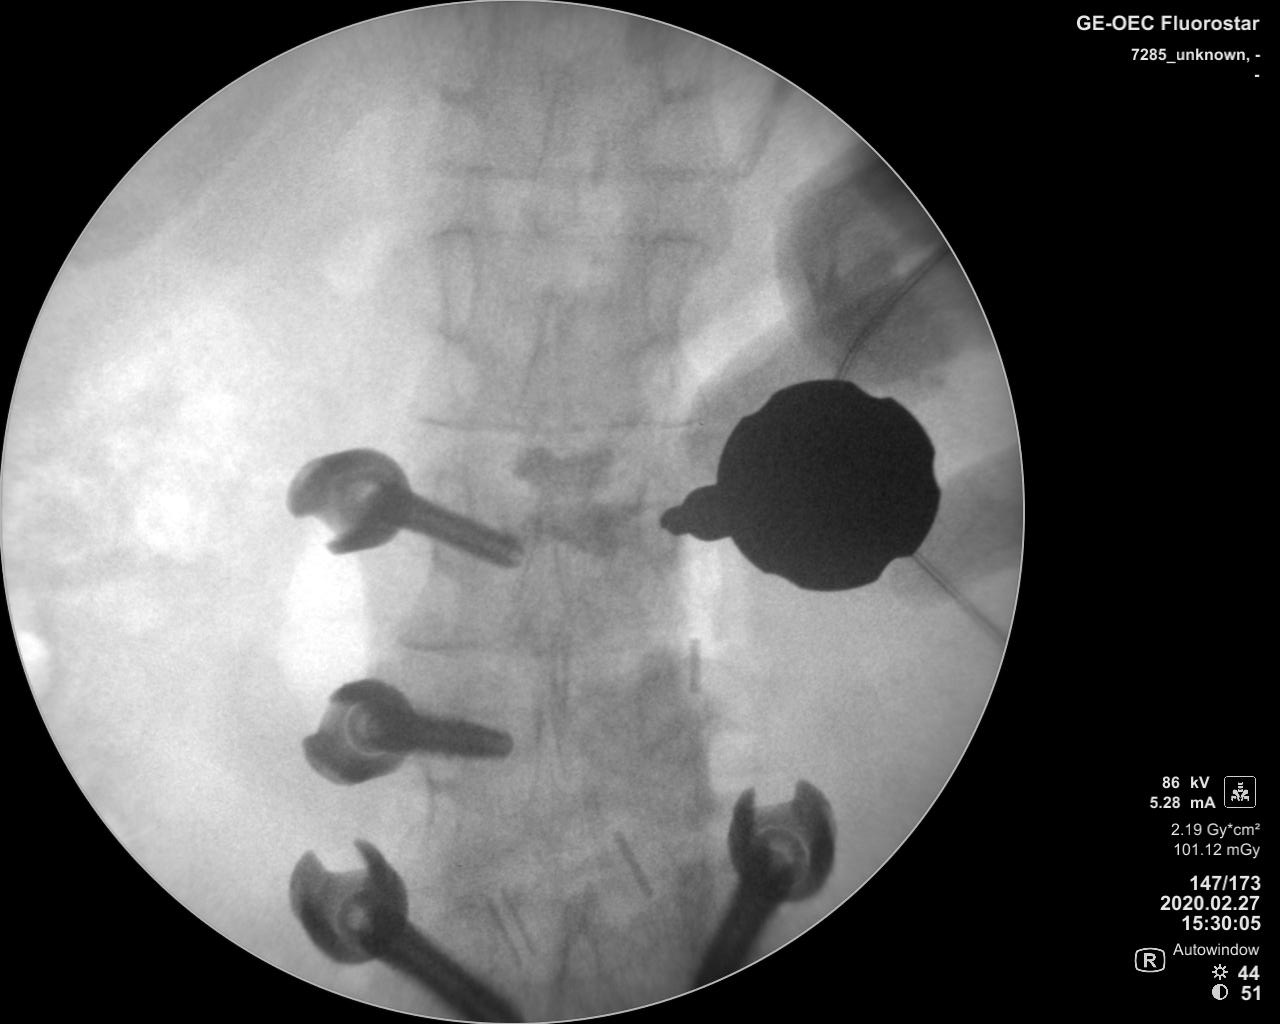eyes: (645, 235, 701, 340), (430, 7, 494, 99), (430, 227, 478, 339), (653, 32, 708, 104)
line: (420, 156, 739, 185), (430, 222, 714, 248), (411, 411, 695, 435)
nose: (511, 284, 574, 443), (515, 478, 571, 657), (526, 65, 579, 239)
